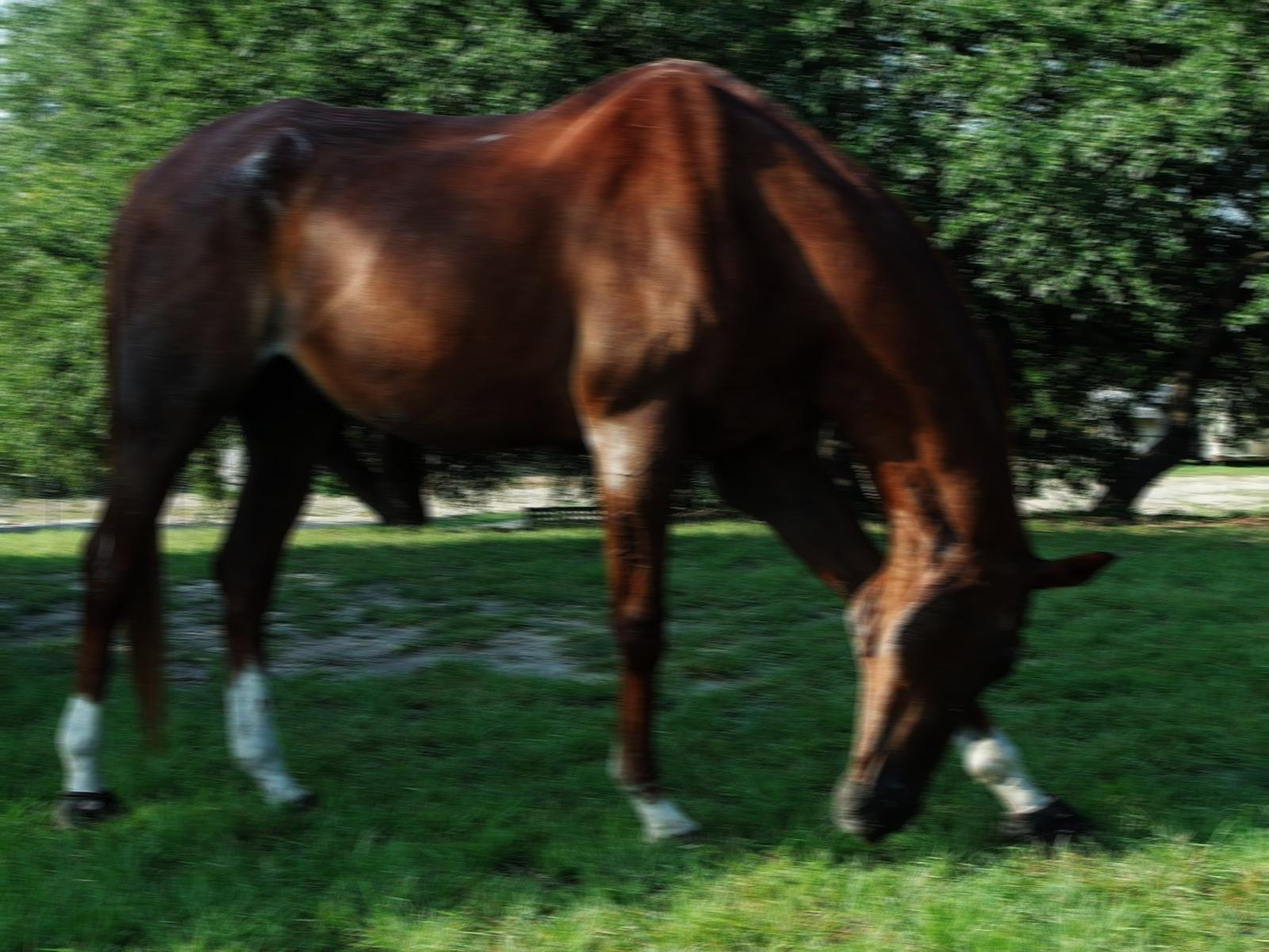horse: (38, 43, 1132, 871)
